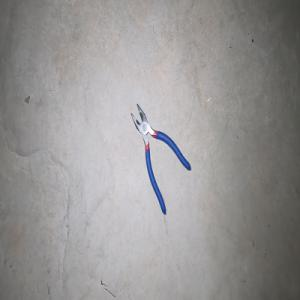Pliers: (130, 103, 191, 215)
